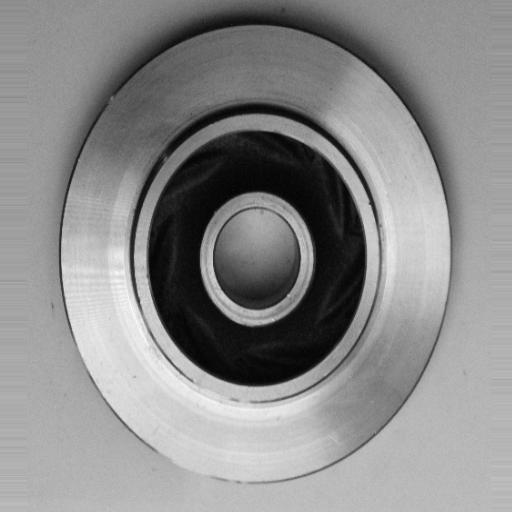scratch: (137, 440, 242, 498), (184, 365, 262, 412)
unpolished_casting: (58, 20, 456, 491)
